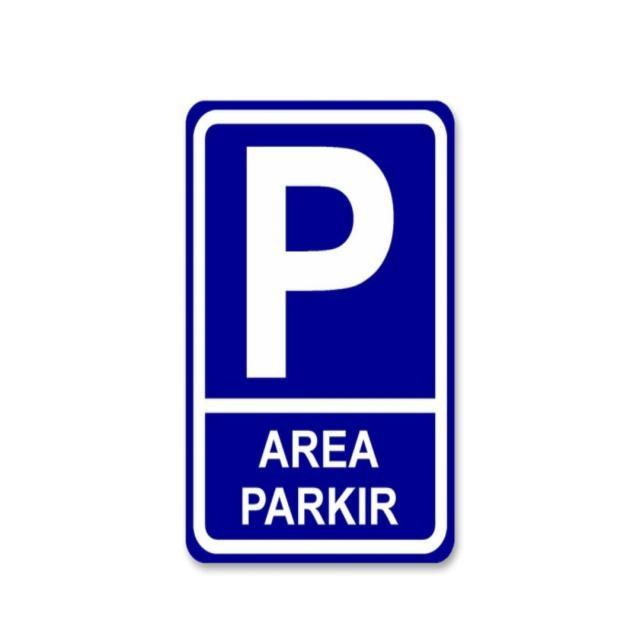Tempat Parkir: (209, 130, 432, 396)
